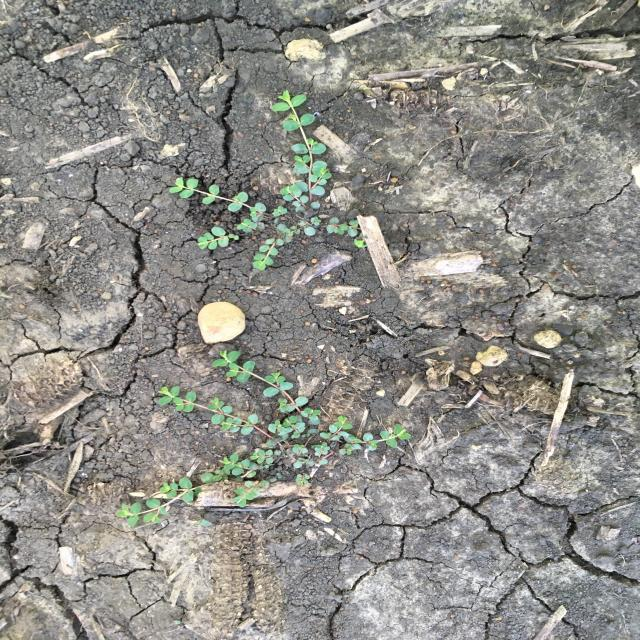SpottedSpurge: (114, 349, 412, 528), (167, 89, 375, 272)
